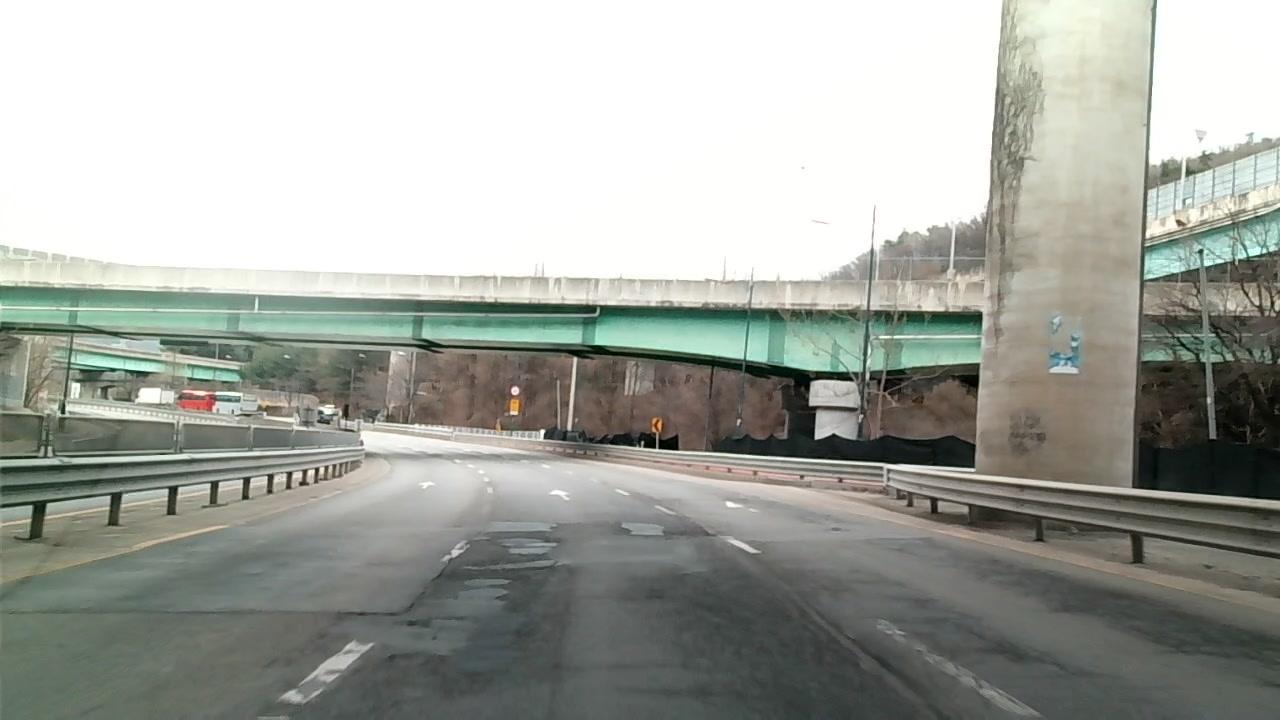banner: (811, 604, 942, 720), (469, 526, 563, 616), (1146, 612, 1279, 667), (963, 619, 1083, 679), (404, 538, 467, 614), (9, 608, 400, 617)
